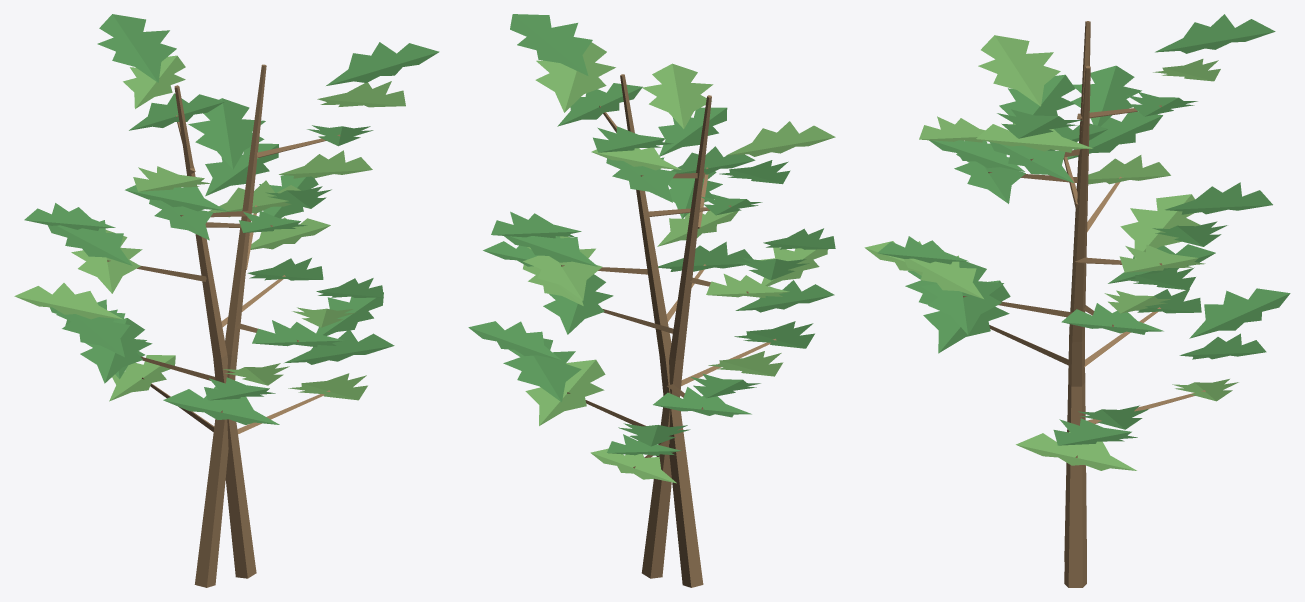
File: oak_sapling_03.glb
3 views of the same model, side by side, from view 1: azimuth 30°, elevation 25°; view 2: azimuth 150°, elevation 25°; view 3: azimuth 270°, elevation 25° (orthographic). The views are drawn at different scales.
Parts seen in each view (by area): view 1: Oak_sapling_800_03; view 2: Oak_sapling_800_03; view 3: Oak_sapling_800_03.
Part boxes in pixels (<box>): Oak_sapling_800_03: <box>14,14,439,587</box>; Oak_sapling_800_03: <box>468,14,835,587</box>; Oak_sapling_800_03: <box>864,14,1290,587</box>.
Bounding box in the file's own units: 1.44 × 1.87 × 1.35.
